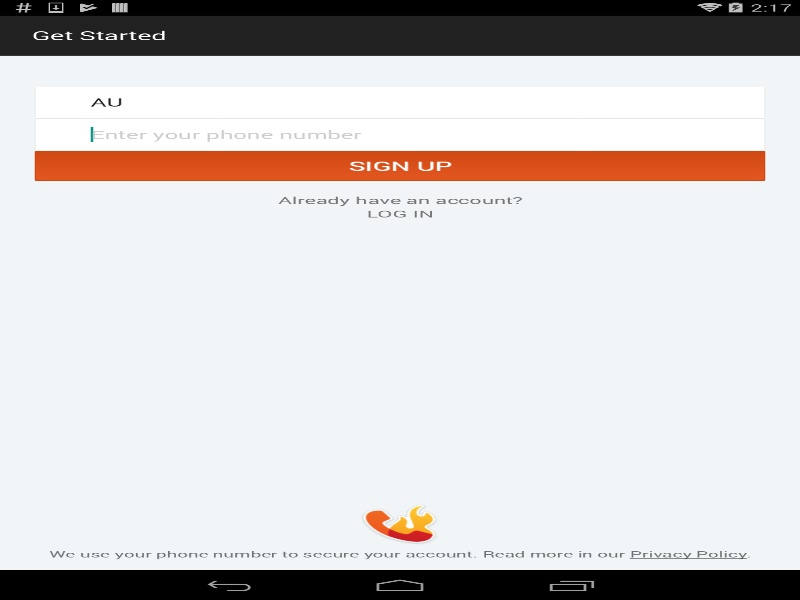Button: (34, 150, 765, 180)
Input: (34, 85, 765, 118), (34, 118, 765, 150)
